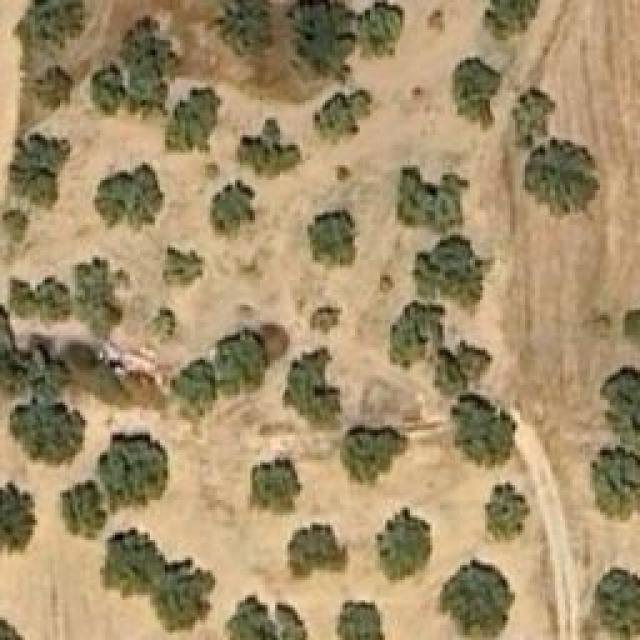Tree: (522, 140, 599, 218), (440, 558, 515, 638), (123, 15, 185, 110), (93, 433, 171, 508), (415, 233, 492, 308), (287, 0, 362, 72), (8, 400, 87, 464), (398, 162, 470, 232), (95, 162, 165, 230), (450, 395, 518, 465), (10, 130, 71, 207), (150, 562, 214, 635), (72, 255, 131, 332), (378, 508, 433, 588), (237, 118, 305, 181), (282, 350, 340, 423), (98, 530, 165, 593), (453, 58, 508, 131), (225, 592, 308, 640), (343, 425, 408, 485), (590, 445, 640, 523), (165, 85, 220, 153), (390, 300, 445, 368), (248, 458, 303, 521), (592, 567, 639, 640), (55, 478, 109, 540), (215, 0, 274, 56), (313, 90, 373, 145), (18, 0, 82, 50), (287, 523, 345, 578), (600, 367, 640, 445), (308, 212, 361, 270), (210, 330, 263, 388), (360, 0, 409, 60), (170, 357, 218, 415), (435, 340, 490, 390), (10, 278, 73, 321), (210, 180, 255, 235), (485, 483, 528, 538), (330, 600, 388, 640), (485, 0, 540, 40), (0, 490, 38, 545), (86, 63, 126, 115), (515, 90, 557, 138), (33, 63, 74, 110), (163, 247, 206, 285), (310, 308, 343, 333), (622, 305, 640, 350), (425, 8, 447, 38), (332, 160, 354, 183), (377, 275, 398, 294)
